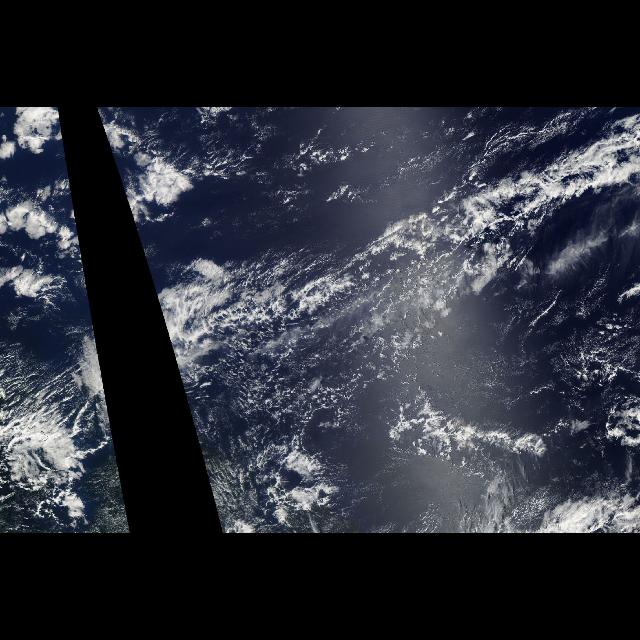Flower: (3, 110, 73, 310)
Sugar: (510, 298, 632, 396)
